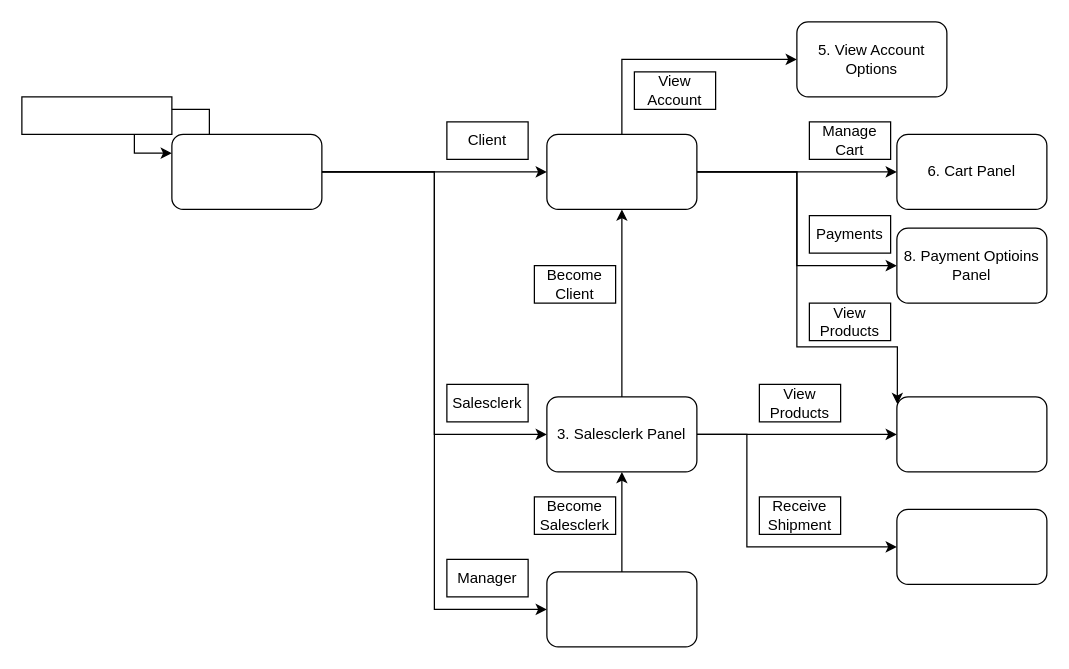
Image size: 1069x669. Some labels were removed from this diagram. Here are the shapes that lost their labels. From the top down, the centre of each, then its label:
At pixel 96 115: "Verification Failed".
At pixel 246 171: "1. Log-In".
At pixel 621 171: "2. Client Panel".
At pixel 971 434: "7. View Products Panel".
At pixel 971 546: "9. Receive Shipment Panel".
At pixel 621 609: "4. Manager Panel".
